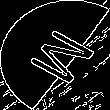M_SE: (14, 22, 96, 88)
